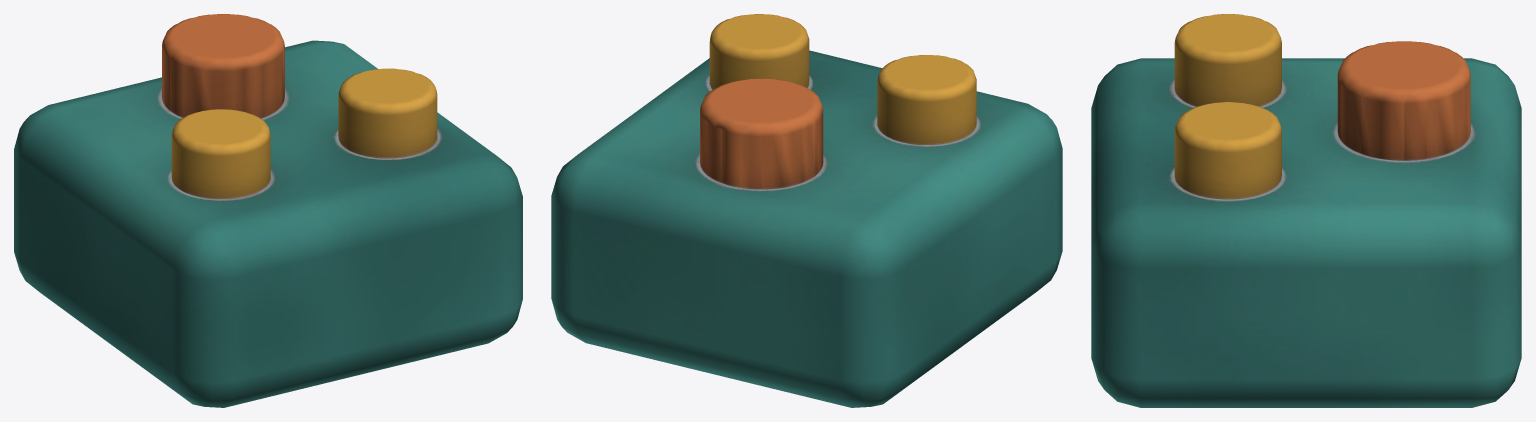
File: logic_and-v001.glb
The picture shows the model from 3 angles, left to right: view 1: azimuth 30°, elevation 25°; view 2: azimuth 150°, elevation 25°; view 3: azimuth 270°, elevation 25°; orthographic projection. The views are drawn at different scales.
Visible parts, largest first — view 1: LogicAnd; view 2: LogicAnd; view 3: LogicAnd.
Boxes of the visible parts, x1,y1,x2,y2 form: LogicAnd: (14, 14, 522, 407); LogicAnd: (551, 14, 1062, 407); LogicAnd: (1091, 14, 1521, 407).
Bounding box in the file's own units: 0.33 × 0.2275 × 0.33.
Materials: 1 (1 with a texture image).
